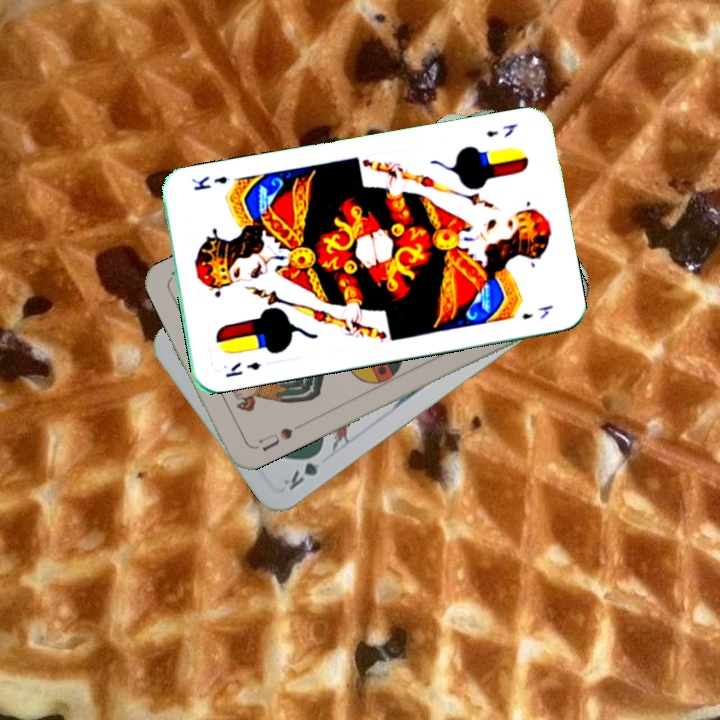EK: (221, 357, 263, 380), (482, 120, 520, 140)
GK: (279, 446, 325, 493)
SU: (248, 423, 296, 455)
